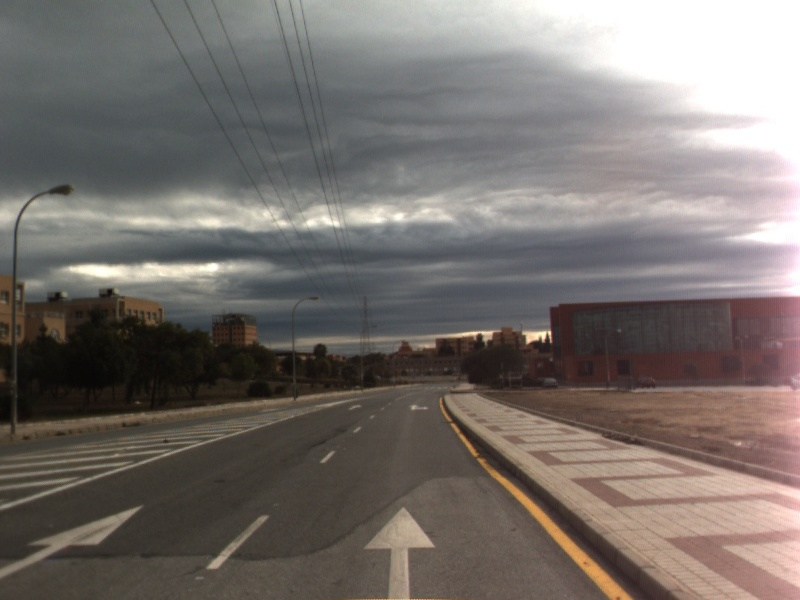STRAIGHT: (1, 502, 147, 579), (360, 504, 438, 600), (346, 403, 364, 412)
STRAIGHT_RIGHT: (406, 402, 432, 412)
